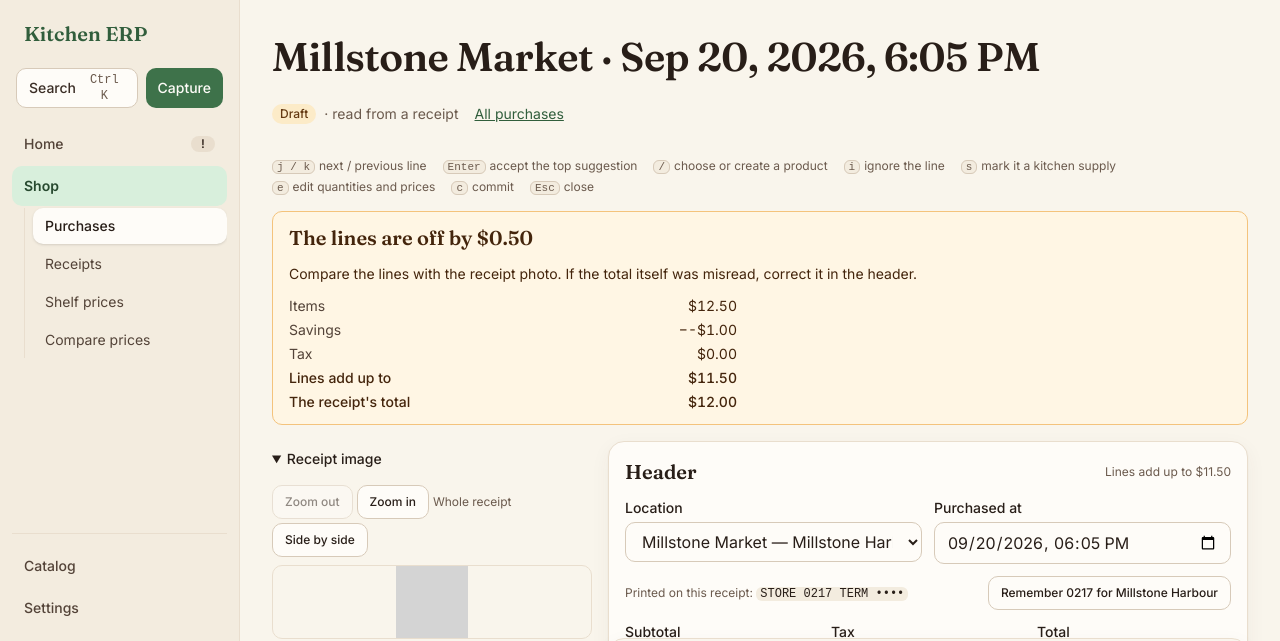
Test case: remember store code › shows the printed line and remembers the code in place
Expected: the text "STORE 0217 TERM ••••" is shown, [756, 587, 908, 601]
Click the button "Remember 0217 for Millstone Harbour" at (1109, 593), box [988, 576, 1231, 610]
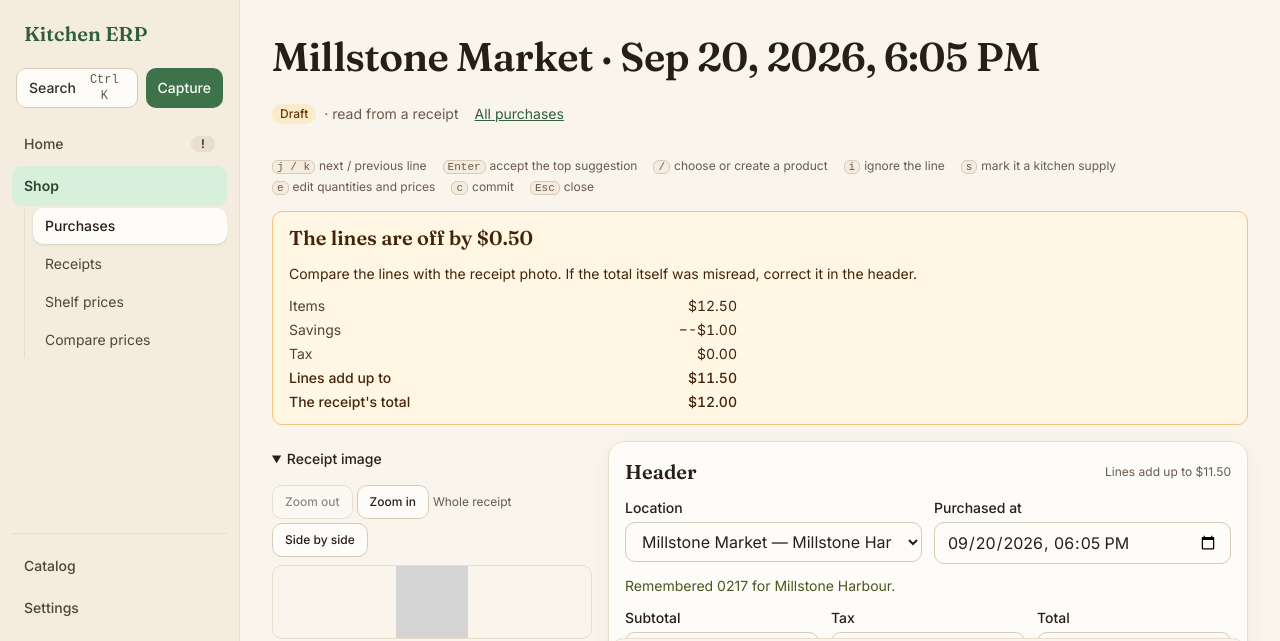
Expected: the button "Remember 0217" is gone
